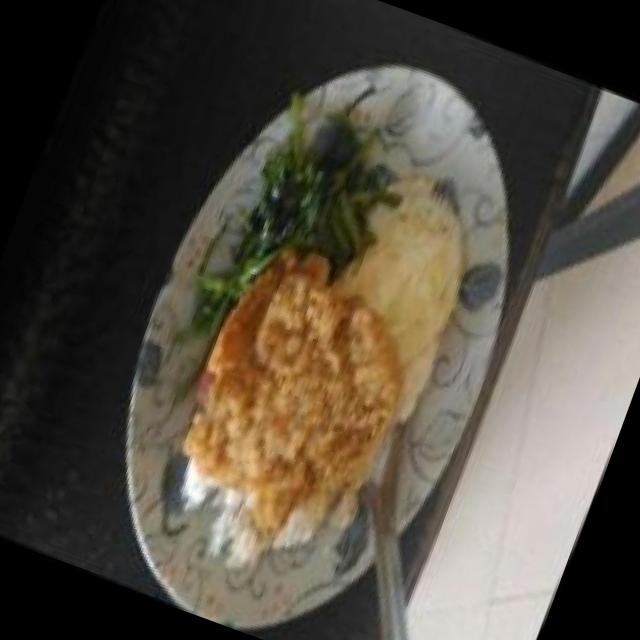fried_chicken: (146, 222, 444, 564)
fried_eggs: (305, 150, 501, 378)
water_spinach: (225, 79, 404, 293)
